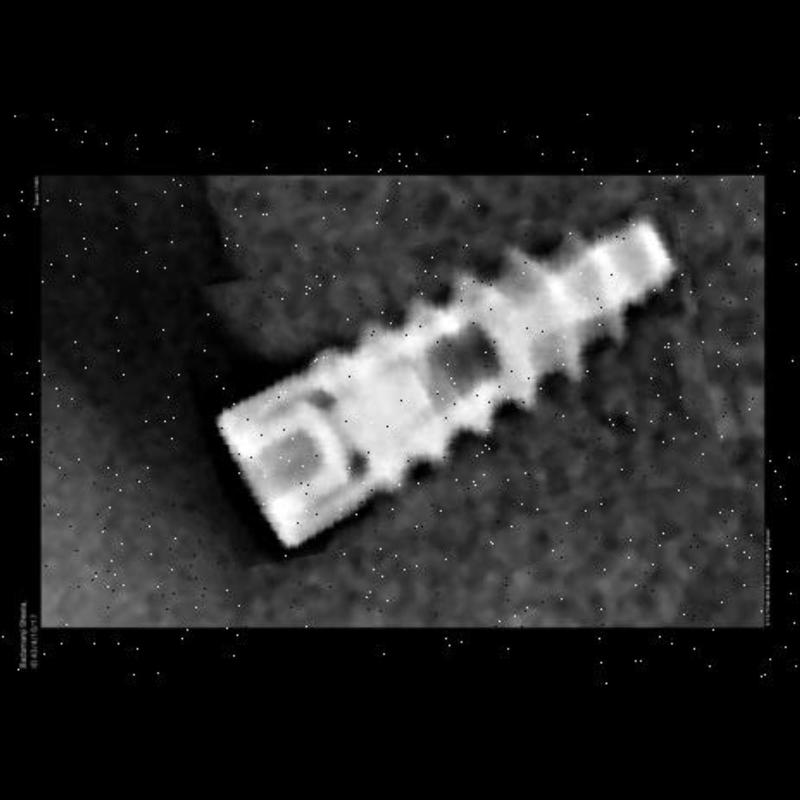NORIS: (192, 219, 714, 548)
